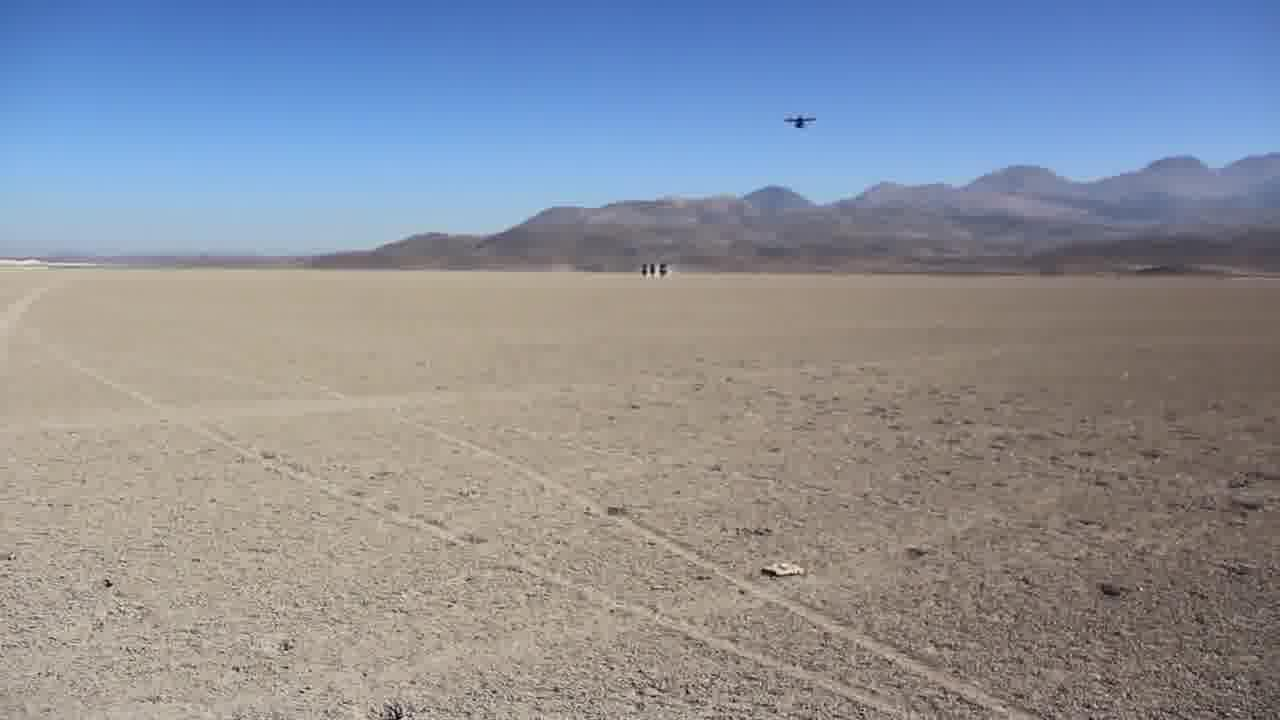drone: (775, 110, 819, 137)
